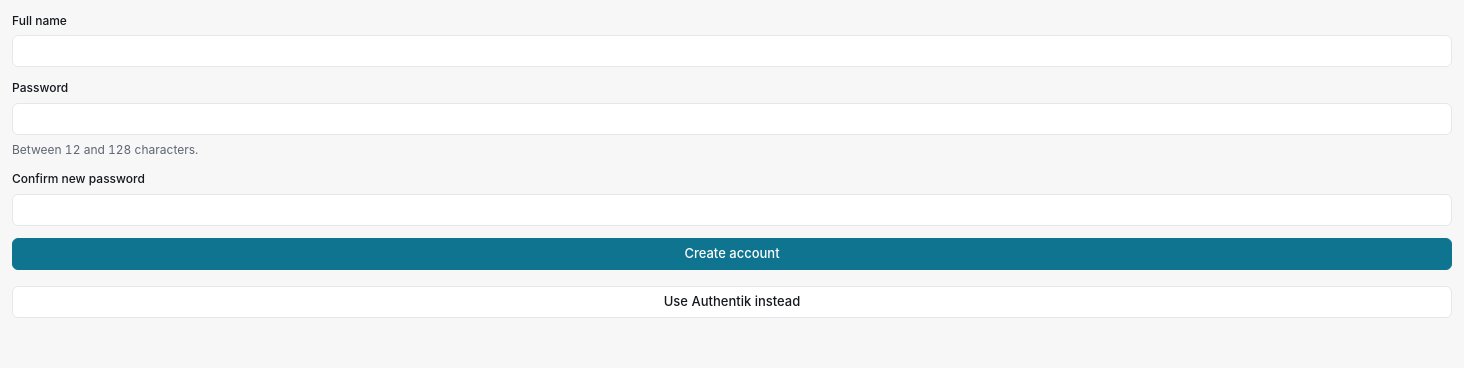
it: InviteForm › checks the confirmation before submitting
Type "Giulia Rossi" into the field labelled "Full name".
click(732, 51); type("Giulia Rossi")  # box x1=12 y1=35 x2=1452 y2=67
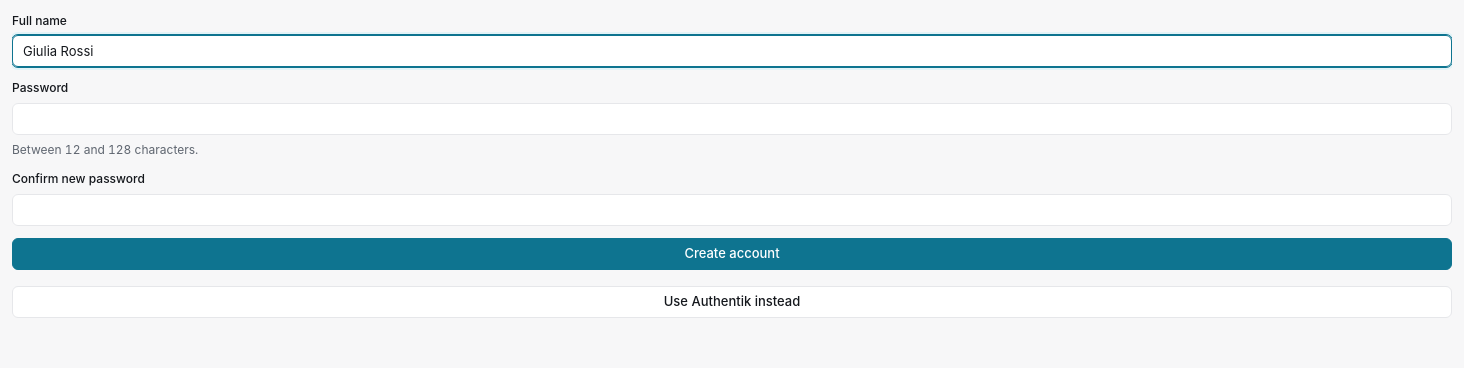
Type "long-enough-password" into the password field labelled "Password".
click(732, 119); type("long-enough-password")  # box x1=12 y1=103 x2=1452 y2=135
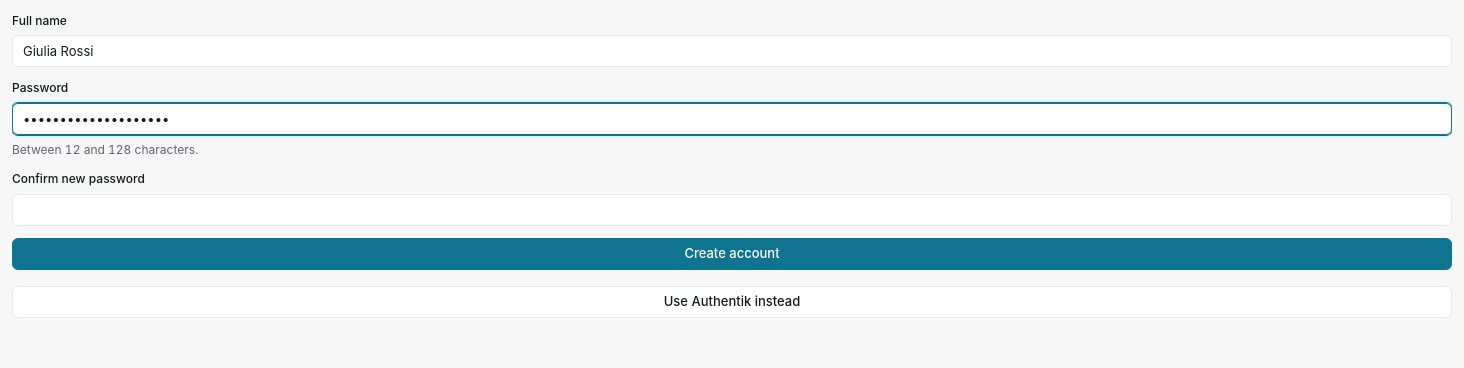
Type "another-long-password" into the password field labelled "Confirm new password".
click(732, 210); type("another-long-password")  # box x1=12 y1=194 x2=1452 y2=226
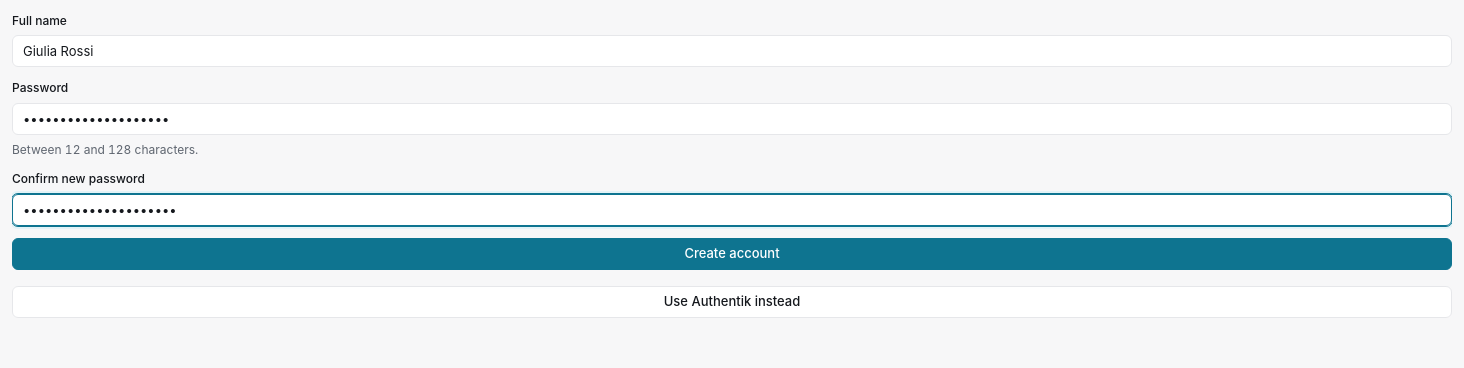
Click the button "Create account".
click(732, 254)  # box x1=12 y1=238 x2=1452 y2=270
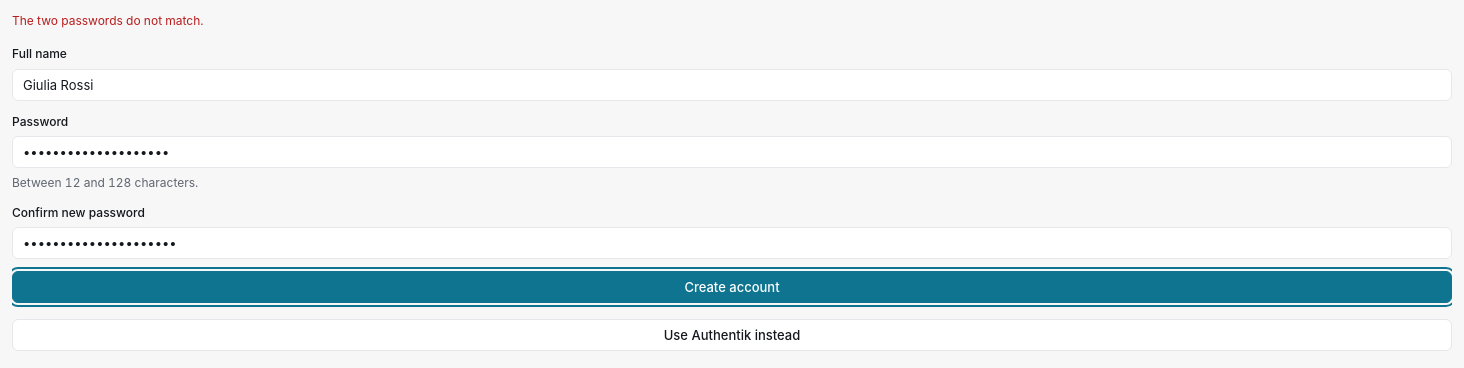
Result: the message reads "The two passwords do not match." at x1=12 y1=13 x2=204 y2=28
